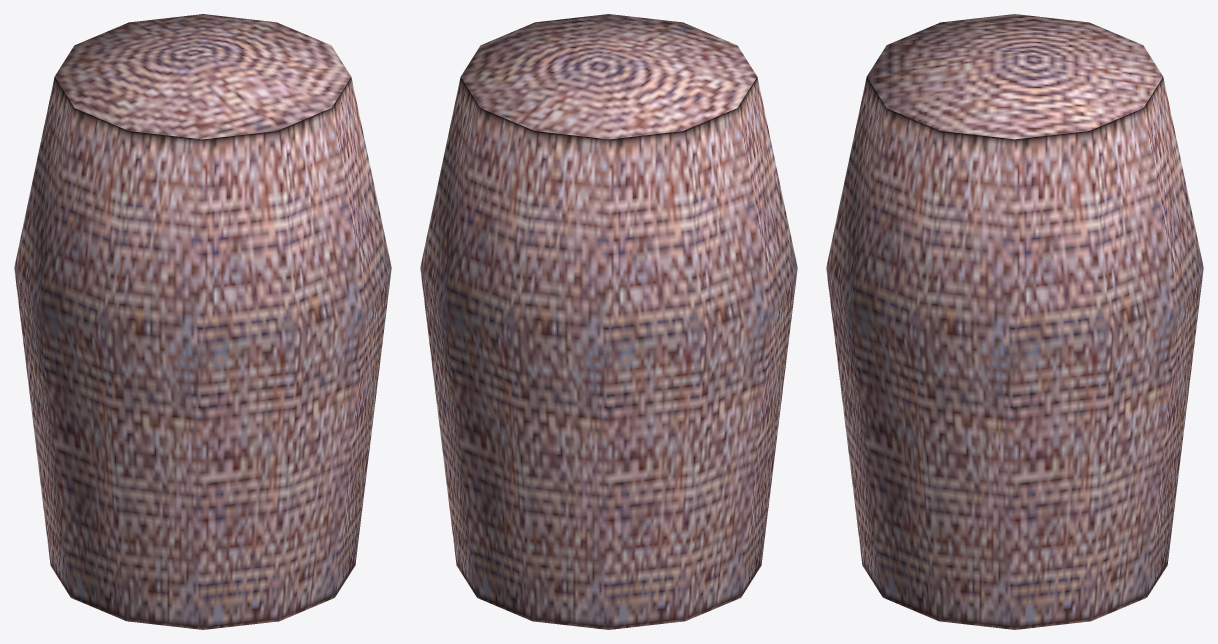
File: Basket03.glb
3 renders of one model, left to right at view 1: azimuth 30°, elevation 25°; view 2: azimuth 150°, elevation 25°; view 3: azimuth 270°, elevation 25°, orthographic.
Visible parts, largest first — view 1: BASKET03; view 2: BASKET03; view 3: BASKET03.
Boxes of the visible parts, x1,y1,x2,y2 form: BASKET03: (14, 14, 391, 629); BASKET03: (420, 14, 797, 629); BASKET03: (826, 14, 1203, 629).
Bounding box in the file's own units: 0.7 × 1.04 × 0.7.
Materials: 1 (1 with a texture image).
